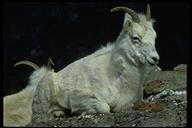goat: (54, 2, 167, 118)
